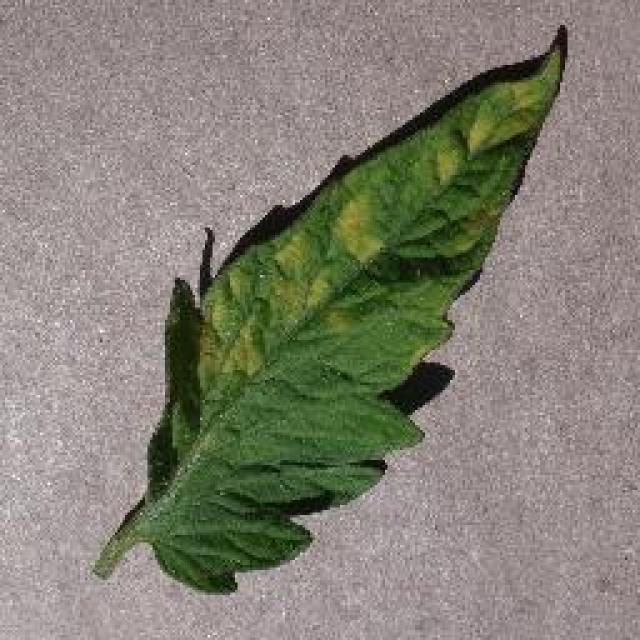Tom_Leaf_Mold: (192, 204, 388, 392)
